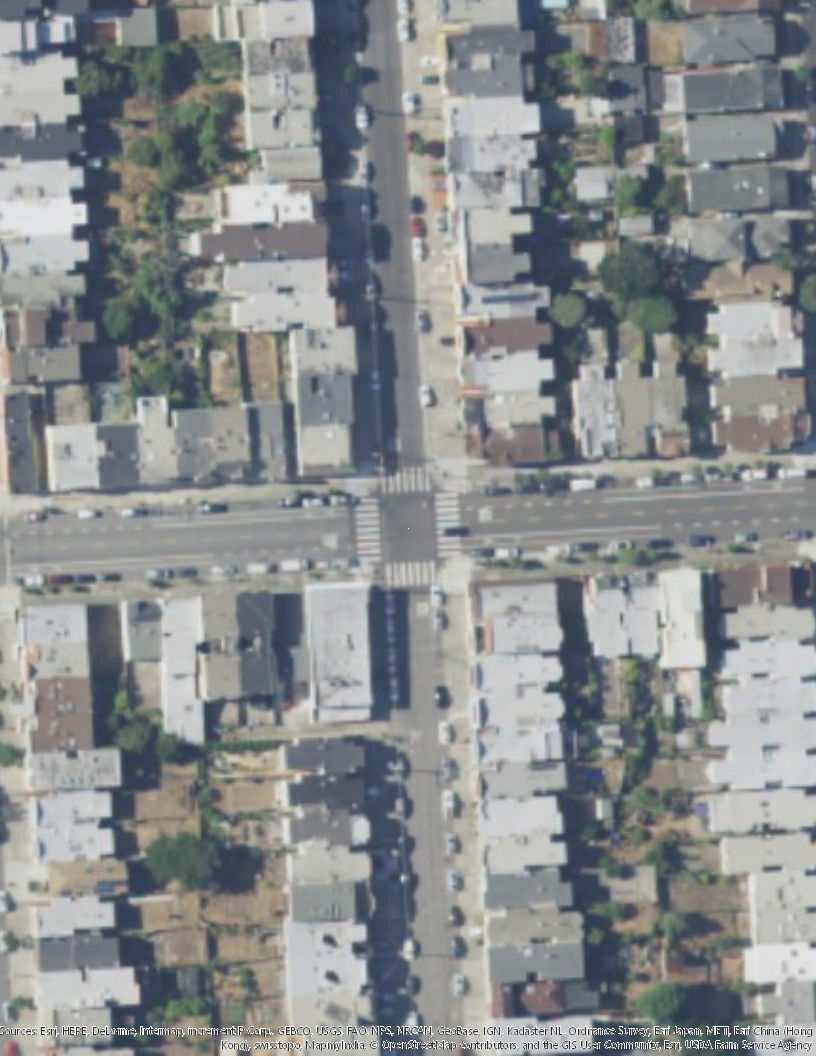zebracross: (351, 500, 383, 564), (432, 497, 463, 556), (383, 560, 437, 589), (380, 467, 434, 495)
